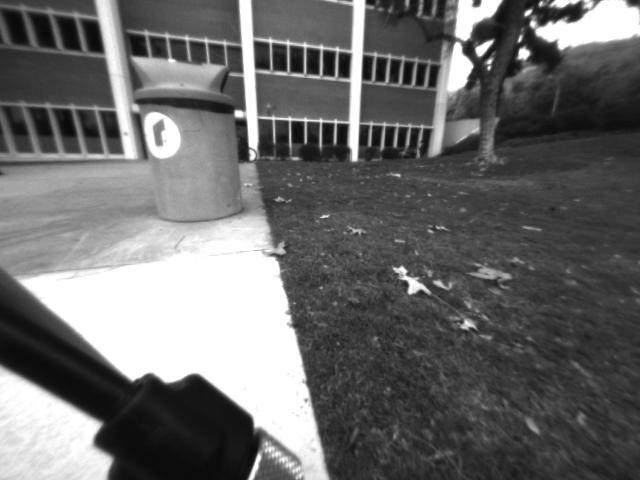trashcan: (122, 52, 255, 224)
